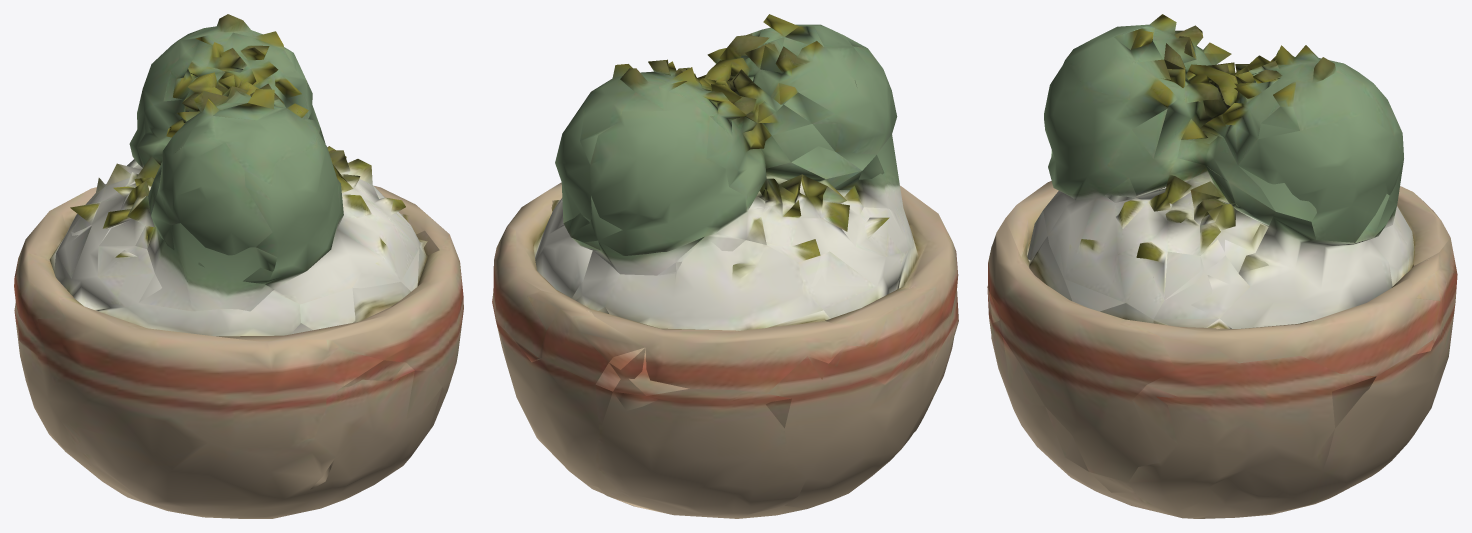
Rendered from IT_사물_s4_food_tier3_pistachio_gelato.glb.
3 renders of one model, left to right at view 1: azimuth 30°, elevation 25°; view 2: azimuth 150°, elevation 25°; view 3: azimuth 270°, elevation 25°, orthographic. The views are drawn at different scales.
Parts seen in each view (by area): view 1: tripo_node_fbf3f9f1-28ac-4dbf-b0e9-a4f39bba7819; view 2: tripo_node_fbf3f9f1-28ac-4dbf-b0e9-a4f39bba7819; view 3: tripo_node_fbf3f9f1-28ac-4dbf-b0e9-a4f39bba7819.
Boxes of the visible parts, x1=… form: tripo_node_fbf3f9f1-28ac-4dbf-b0e9-a4f39bba7819: x1=14, y1=14, x2=463, y2=518; tripo_node_fbf3f9f1-28ac-4dbf-b0e9-a4f39bba7819: x1=492, y1=14, x2=958, y2=518; tripo_node_fbf3f9f1-28ac-4dbf-b0e9-a4f39bba7819: x1=987, y1=14, x2=1457, y2=518.
Size of the model in its own units: 0.4026 by 0.4 by 0.4038.
1 material, 1 textured.
